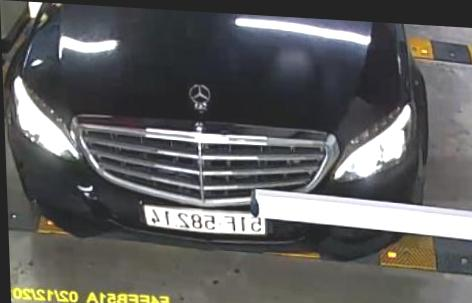License_Plate: (142, 203, 265, 239)
